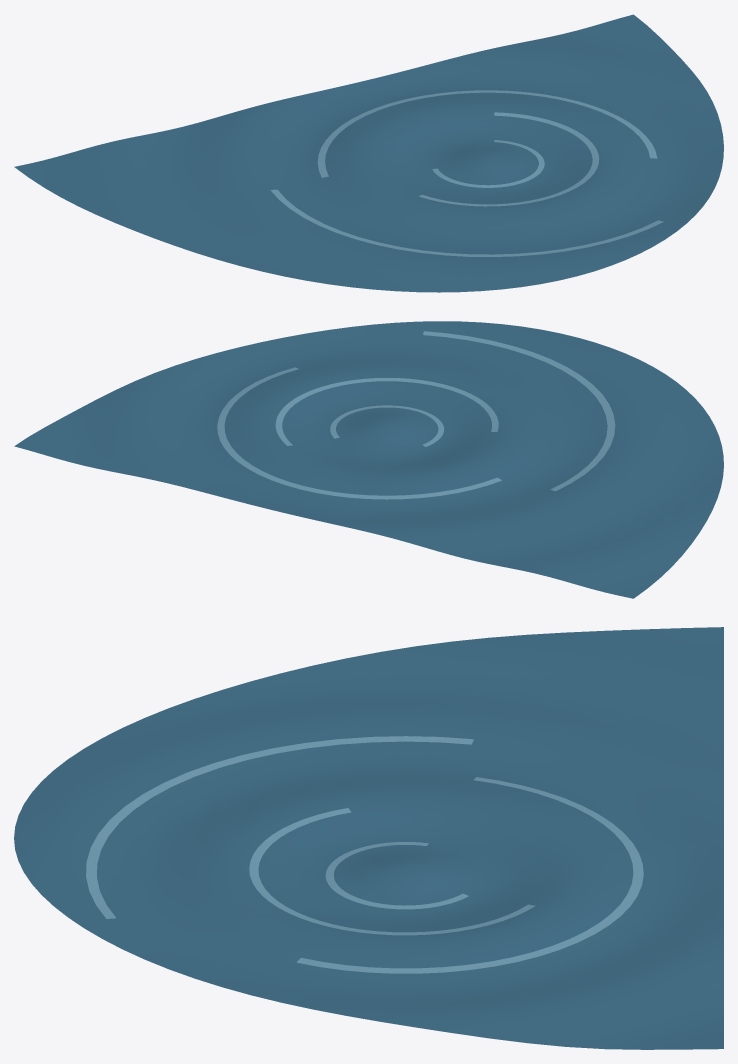
The model's file is wasser-stufe2.glb.
3 renders of one model, top to bottom at view 1: azimuth 30°, elevation 25°; view 2: azimuth 150°, elevation 25°; view 3: azimuth 270°, elevation 25°, orthographic. The views are drawn at different scales.
Visible parts, largest first — view 1: wasser2_flaeche, wasser2_ringe; view 2: wasser2_flaeche, wasser2_ringe; view 3: wasser2_flaeche, wasser2_ringe.
Boxes of the visible parts, <box> form: wasser2_flaeche: <box>14,14,723,292</box>; wasser2_ringe: <box>270,90,663,256</box>; wasser2_flaeche: <box>14,321,723,598</box>; wasser2_ringe: <box>217,331,615,499</box>; wasser2_flaeche: <box>14,627,723,1049</box>; wasser2_ringe: <box>86,736,643,973</box>.
Size of the model in its own units: 37 by 0.3313 by 26.2.
